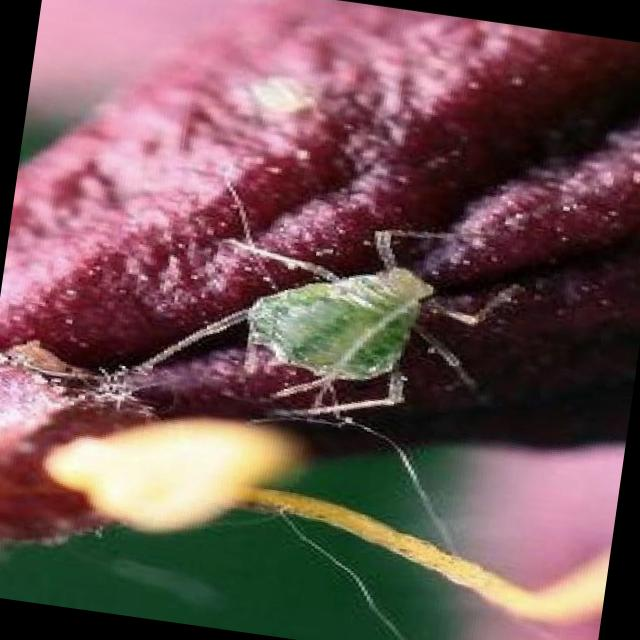aphid: (213, 228, 453, 418)
